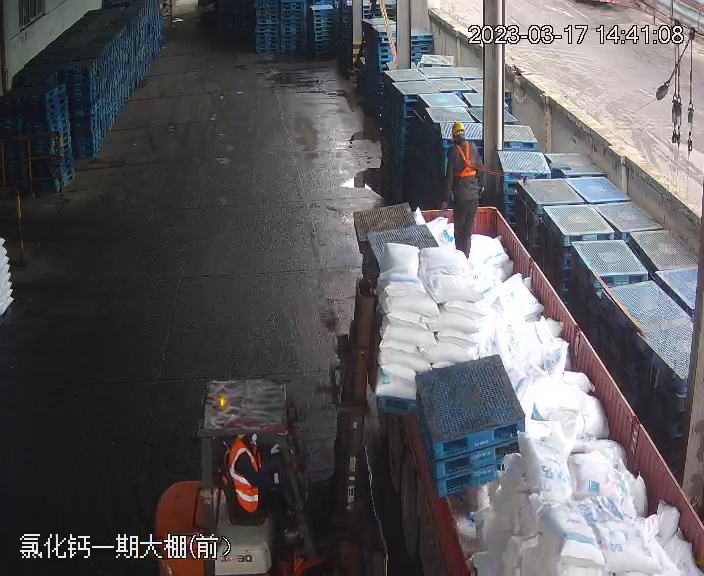belt: (444, 118, 486, 249), (450, 142, 482, 179)
head: (445, 120, 480, 160)
helmet: (450, 120, 465, 135)
people: (224, 432, 299, 538), (443, 119, 486, 259)
truck: (345, 201, 700, 576)
